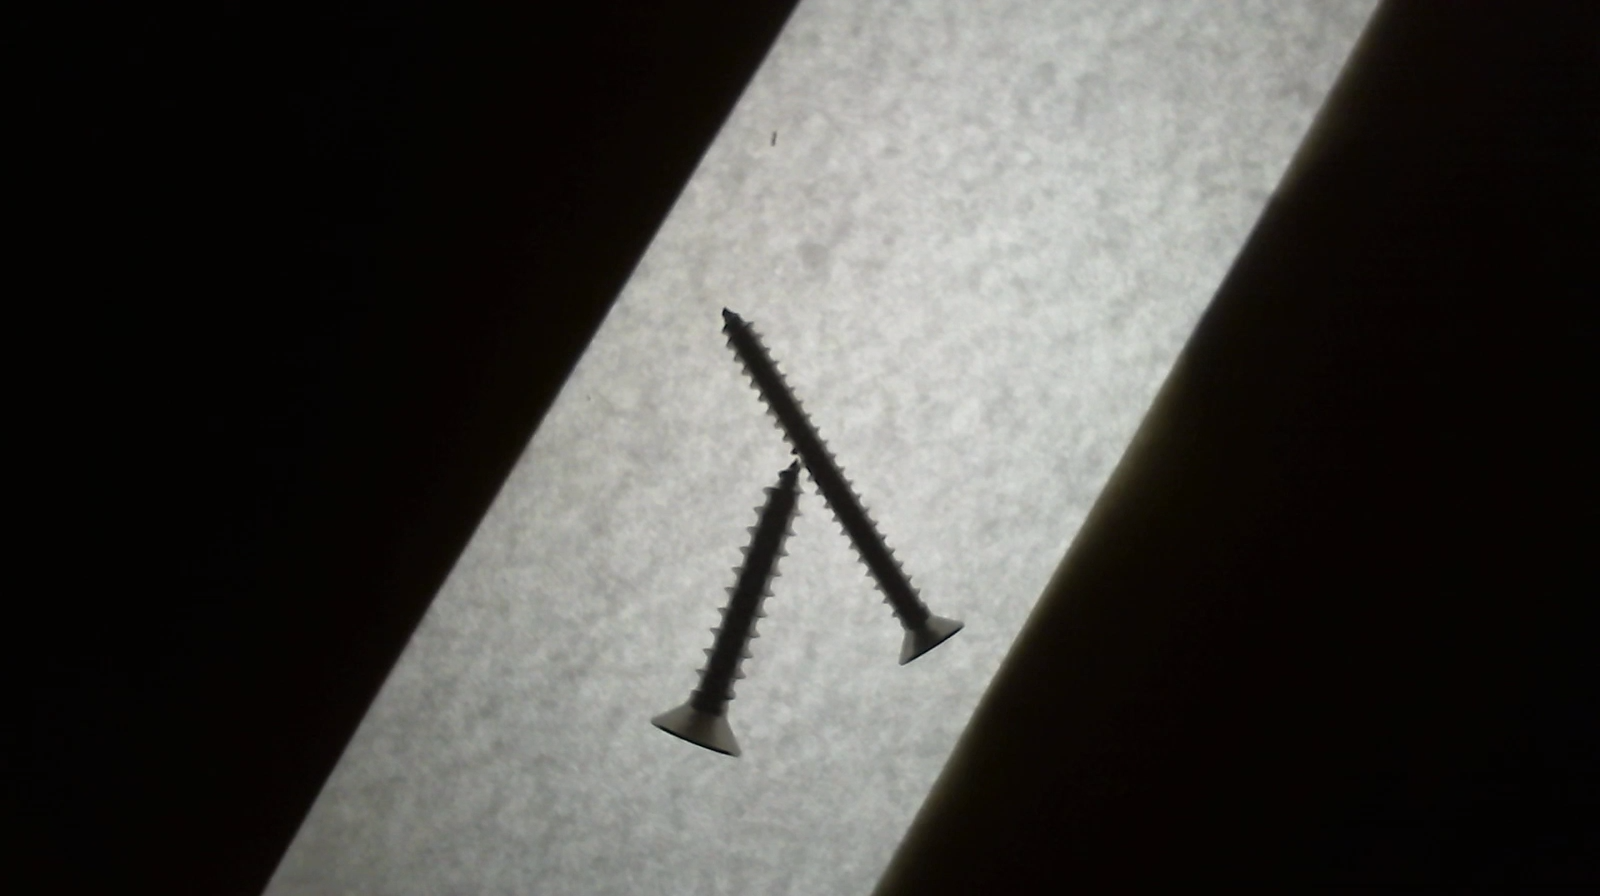S001: (653, 455, 803, 763)
S002: (719, 307, 965, 670)
